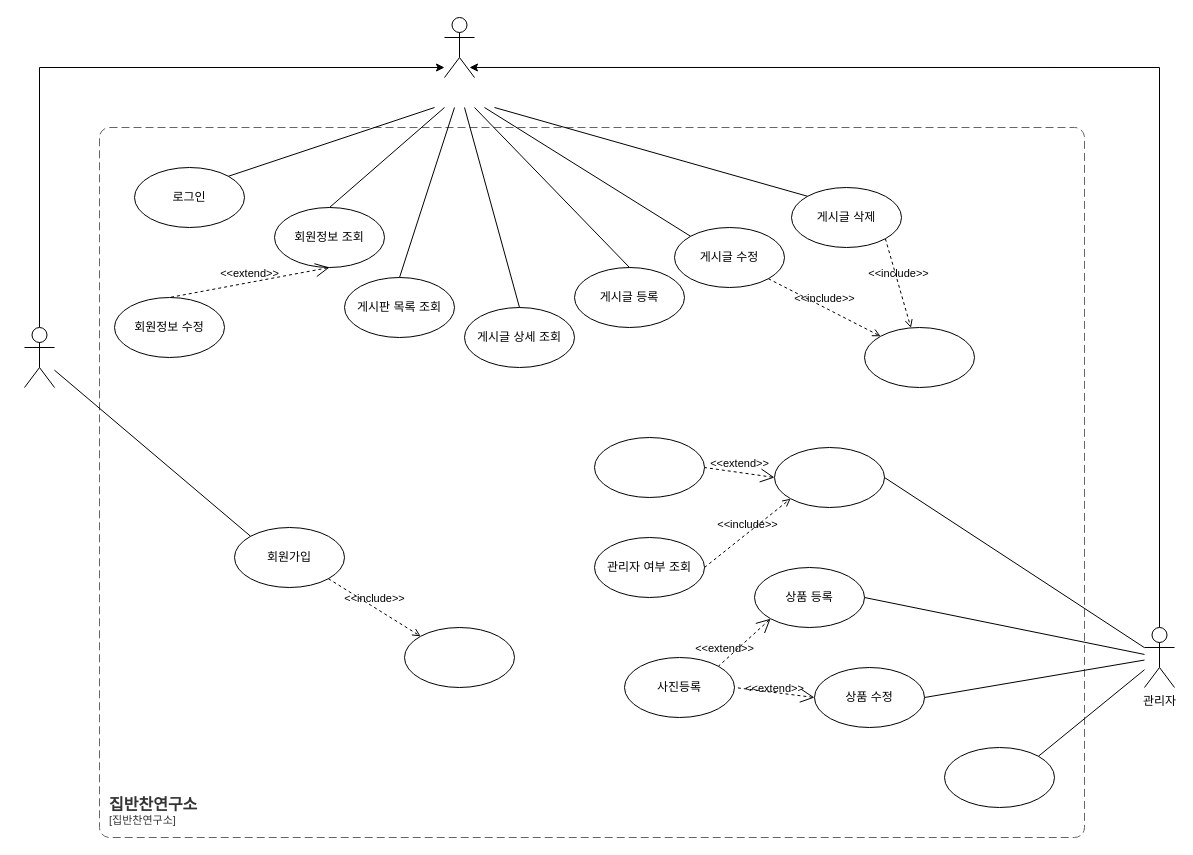
Image size: 1193x855. Some labels were removed from this diagram. Here are the shapes that lost their labels. From the top down, the centre of each, then its label:
At point (459, 47): "시스템 사용자".
At point (39, 357): "일반회원".
At point (919, 357): "작성자 여부 확인".
At point (649, 467): "상품 상세 조회".
At point (829, 477): "상품목록".
At point (459, 657): "아이디 중복체크".
At point (999, 777): "상품 삭제".
